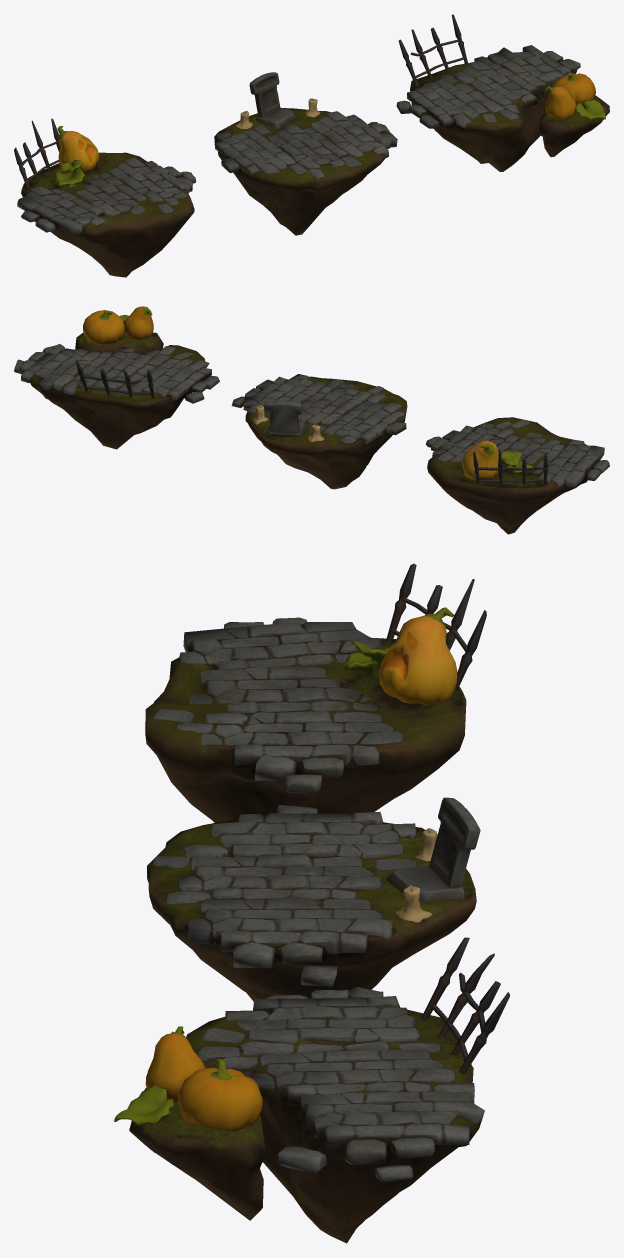
The model's file is island_small.glb.
3 renders of one model, top to bottom at view 1: azimuth 30°, elevation 25°; view 2: azimuth 150°, elevation 25°; view 3: azimuth 270°, elevation 25°, orthographic. The views are drawn at different scales.
Visible parts, largest first — view 1: small_island_3_low, small_island_1_low, Small_island_2_low; view 2: small_island_3_low, small_island_1_low, Small_island_2_low; view 3: small_island_3_low, small_island_1_low, Small_island_2_low.
Part boxes in pixels (x1=…): small_island_3_low: x1=396, y1=14, x2=609, y2=171; small_island_1_low: x1=14, y1=118, x2=196, y2=277; Small_island_2_low: x1=214, y1=72, x2=397, y2=235; small_island_3_low: x1=14, y1=306, x2=219, y2=449; small_island_1_low: x1=425, y1=417, x2=609, y2=534; Small_island_2_low: x1=231, y1=374, x2=407, y2=489; small_island_3_low: x1=114, y1=937, x2=509, y2=1243; small_island_1_low: x1=145, y1=563, x2=486, y2=822; Small_island_2_low: x1=147, y1=797, x2=480, y2=1001.
Bounding box in the file's own units: 82.23 × 17.79 × 25.24.
3 materials, 3 textured.
